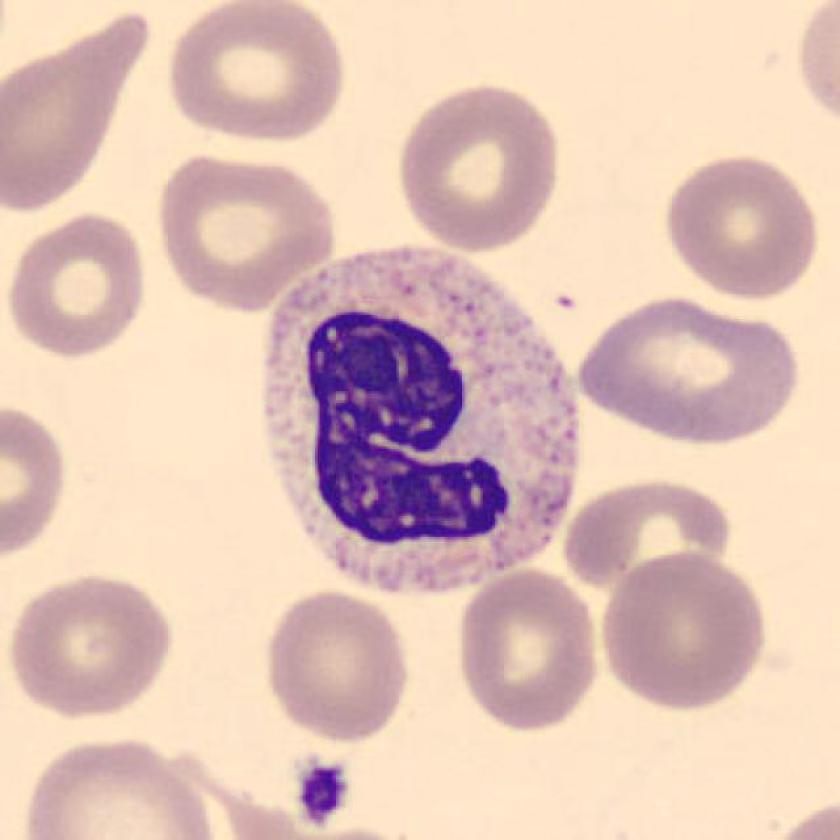neutrophil: (260, 247, 580, 588)
